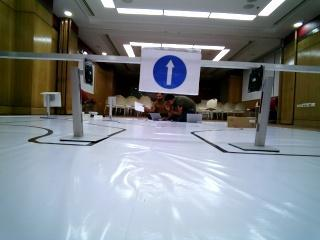straight: (146, 47, 198, 92)
